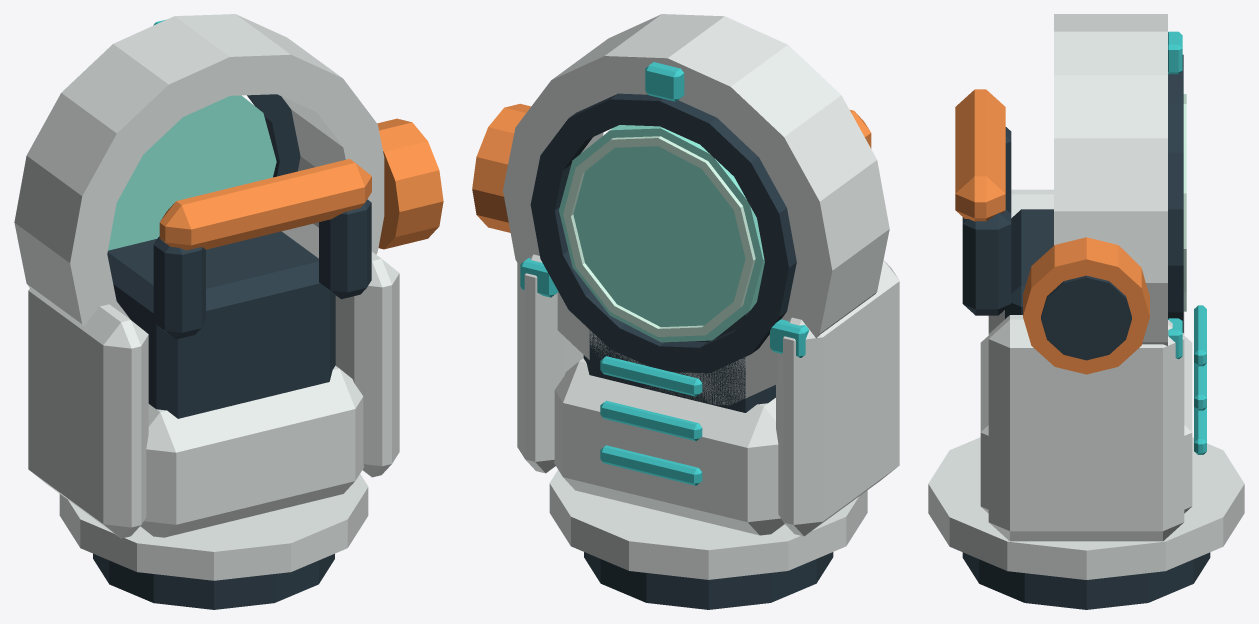
File: SM_TuningLens.fbx
3 renders of one model, left to right at view 1: azimuth 30°, elevation 25°; view 2: azimuth 150°, elevation 25°; view 3: azimuth 270°, elevation 25°, orthographic. The views are drawn at different scales.
Parts seen in each view (by area): view 1: SM_TuningLens; view 2: SM_TuningLens; view 3: SM_TuningLens.
Boxes of the visible parts, <box> form: SM_TuningLens: <box>14,14,443,609</box>; SM_TuningLens: <box>472,14,899,609</box>; SM_TuningLens: <box>928,14,1244,609</box>.
Size of what is drawn, in the model's own units: 26.3 by 19.4 by 35.6.
